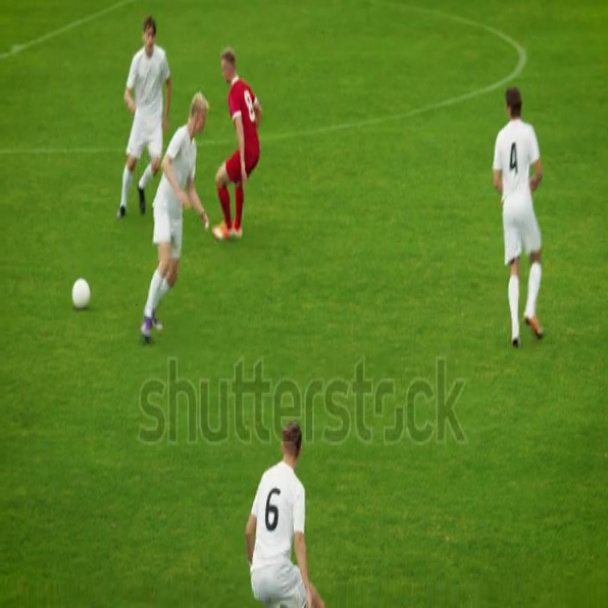ball: (73, 278, 91, 308)
